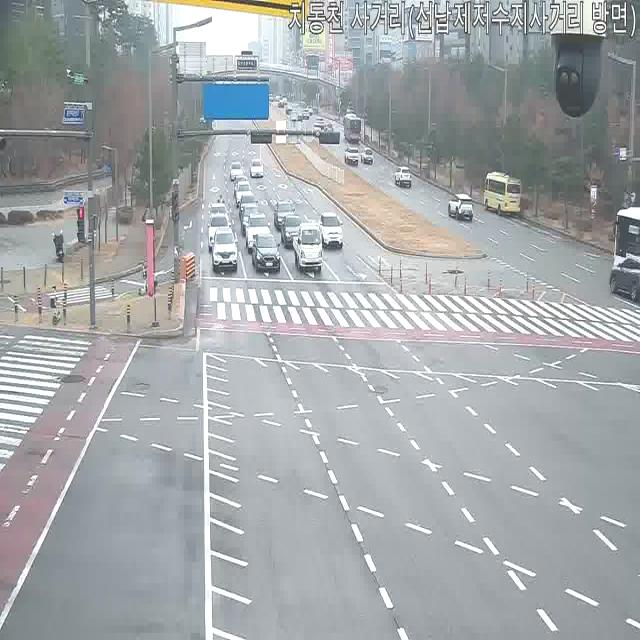Bus: (482, 172, 524, 216), (613, 204, 639, 271), (342, 114, 362, 142)
Car: (608, 253, 640, 303), (210, 228, 238, 274), (251, 233, 281, 274), (244, 213, 271, 252), (318, 212, 344, 250), (206, 214, 232, 251), (281, 214, 305, 249), (448, 193, 474, 221), (273, 198, 295, 230), (239, 207, 263, 235), (208, 201, 230, 231), (239, 192, 258, 221), (235, 181, 252, 207), (394, 166, 412, 188), (229, 161, 244, 182), (344, 147, 360, 166), (250, 158, 264, 179), (320, 124, 336, 142), (361, 148, 373, 164), (314, 122, 324, 136), (289, 110, 299, 124), (301, 108, 311, 119), (278, 97, 287, 108)
Motorcycle: (214, 190, 225, 214)
Truck: (294, 221, 324, 273)
